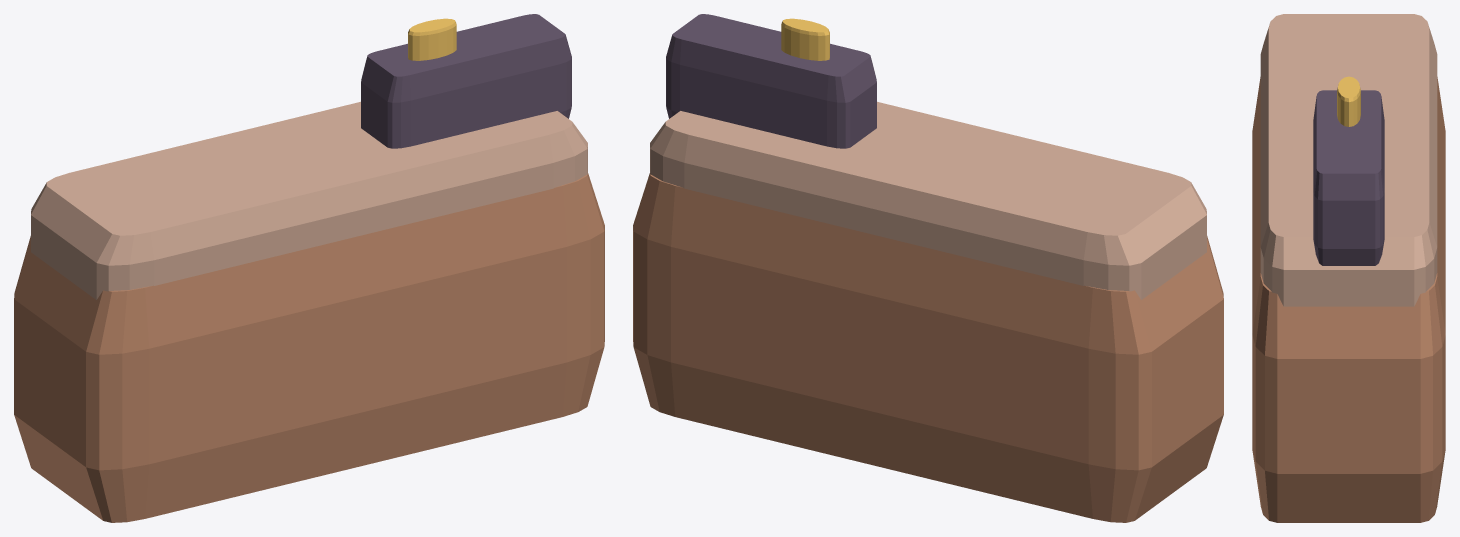
The model's file is wallet_toy.glb.
3 views of the same model, side by side, from view 1: azimuth 30°, elevation 25°; view 2: azimuth 150°, elevation 25°; view 3: azimuth 270°, elevation 25° (orthographic).
Visible parts, largest first — view 1: model; view 2: model; view 3: model.
Part boxes in pixels (x1=…): model: x1=14, y1=14, x2=604, y2=522; model: x1=633, y1=14, x2=1223, y2=522; model: x1=1252, y1=14, x2=1445, y2=522.
Bounding box in the file's own units: 0.4 × 0.28 × 0.13.
